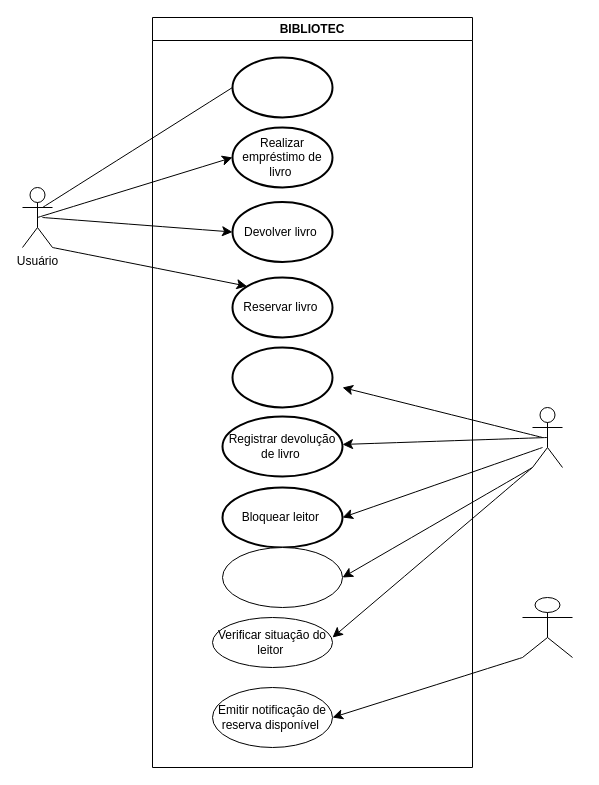
This 599x785 diagram has some shape labels left out. Here are the shapes that lost their labels. From the top down, the centre of each, then its label:
the point at 282,87: Pesquisar Livro
the point at 282,377: Cadastrar livro
the point at 547,437: Bibliotecário
the point at 282,577: Emitir relatório de empréstimo
the point at 547,627: Sistema
